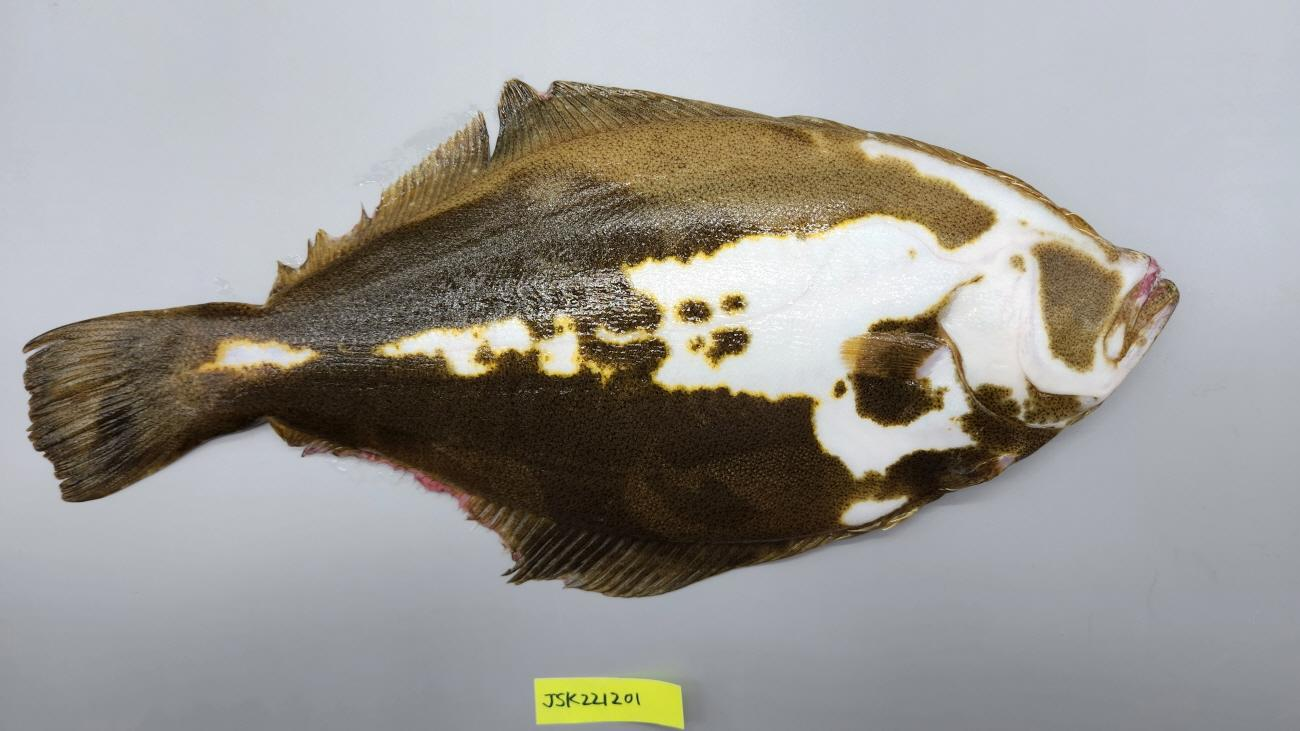VIMOU: (1138, 256, 1160, 297)
VIOUY: (17, 76, 1179, 603)
